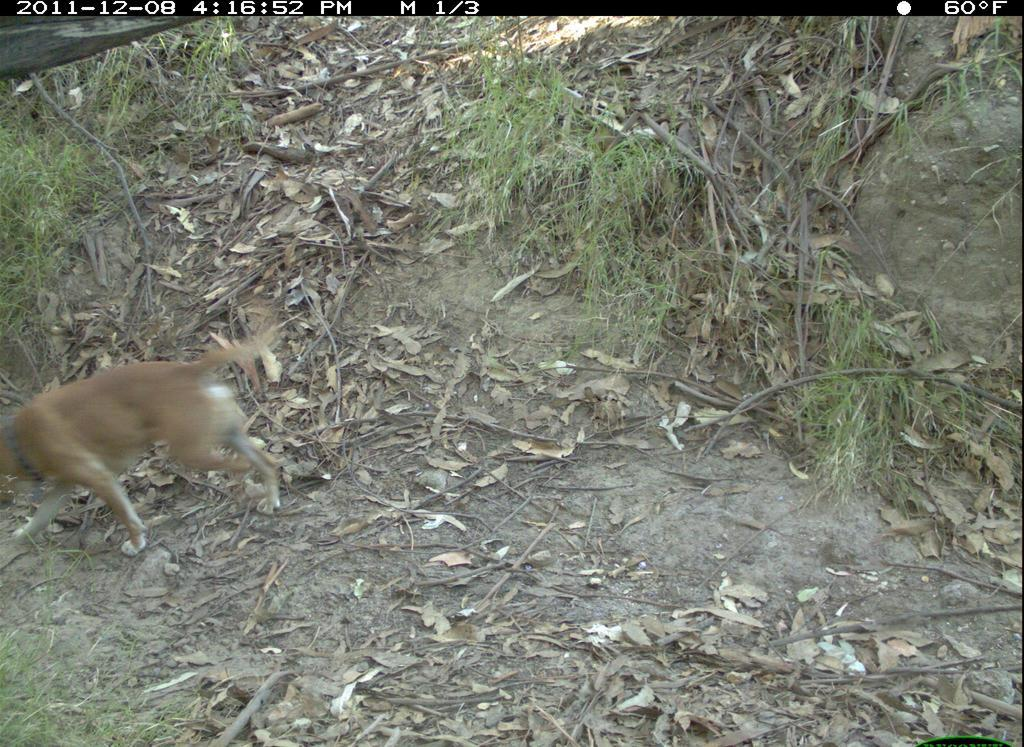dog: (2, 291, 287, 559)
